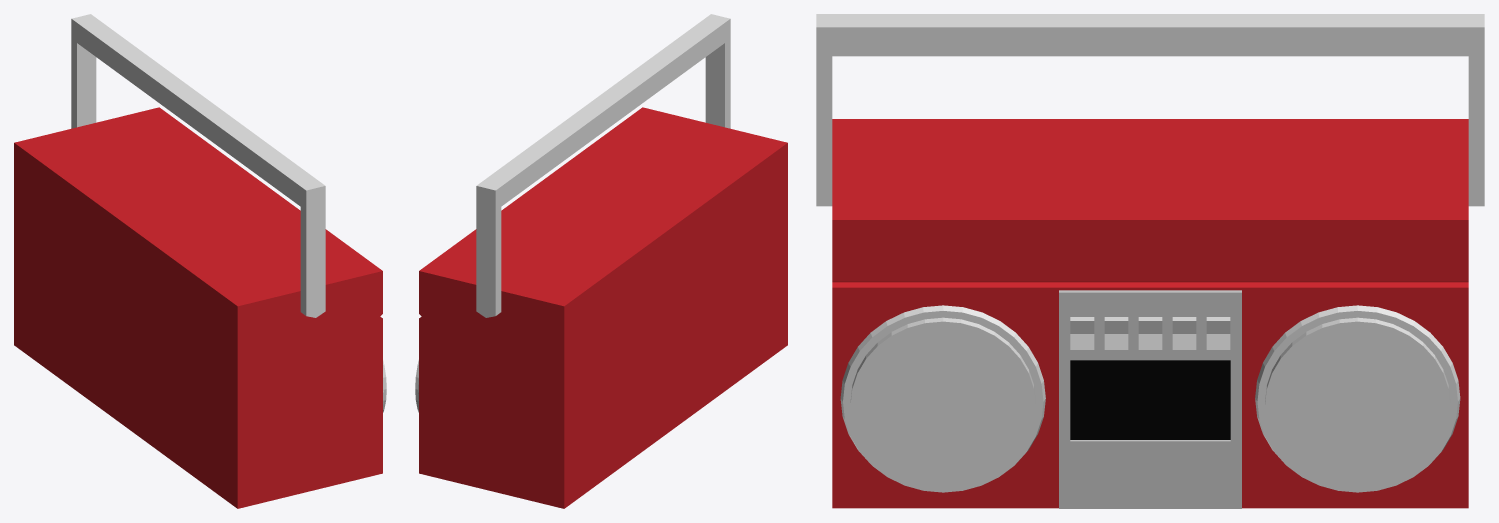
The model's file is Boombox.gltf.
The picture shows the model from 3 angles, left to right: view 1: azimuth 30°, elevation 25°; view 2: azimuth 150°, elevation 25°; view 3: azimuth 270°, elevation 25°; orthographic projection. The views are drawn at different scales.
Visible parts, largest first — view 1: Boom_Box, Handle; view 2: Boom_Box, Handle; view 3: Boom_Box, Speaker, Console, Handle, Buttons.
Part boxes in pixels (box(x1,y1,x2,y2)): Boom_Box: box(14, 107, 382, 508); Handle: box(71, 14, 325, 317); Boom_Box: box(419, 107, 787, 508); Handle: box(476, 14, 730, 317); Boom_Box: box(832, 119, 1468, 508); Speaker: box(840, 305, 1460, 492); Console: box(1059, 290, 1241, 508); Handle: box(816, 14, 1484, 206); Buttons: box(1070, 317, 1230, 349).
Bounding box in the file's own units: 1.61 × 3.03 × 4.2.
